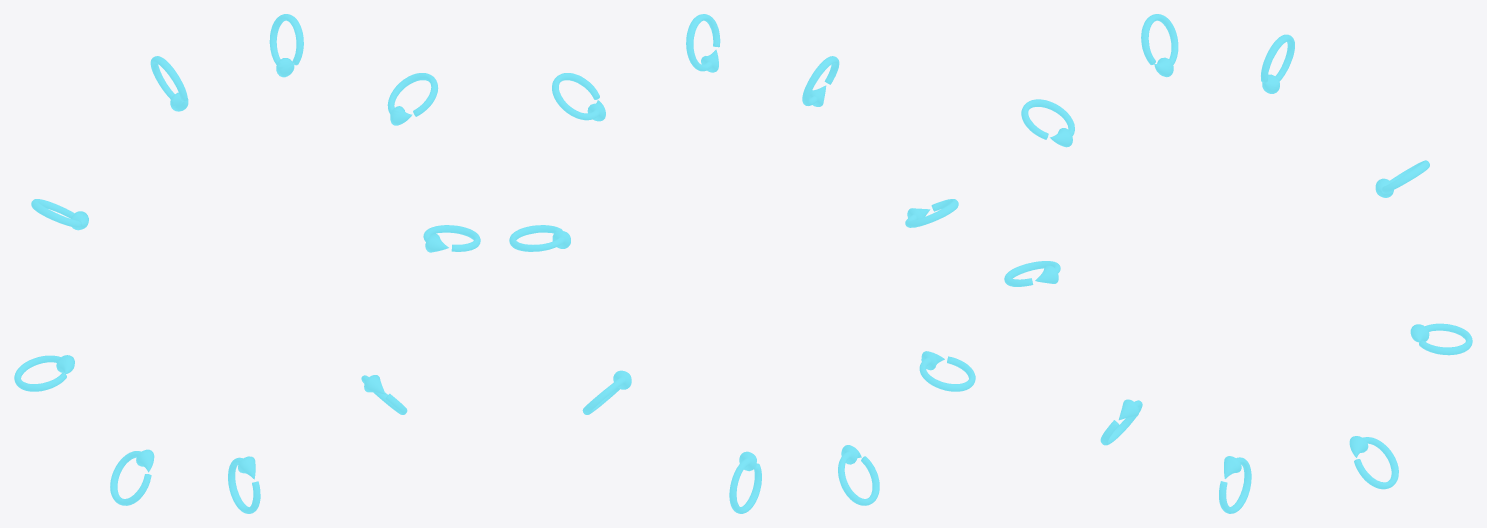
Rendered from field_aspire.glb.
3 renders of one model, left to right at view 1: azimuth 30°, elevation 25°; view 2: azimuth 150°, elevation 25°; view 3: azimuth 330°, elevation 25°, orthographic.
Parts seen in each view (by area): view 1: FIELD_ASPIRE; view 2: FIELD_ASPIRE; view 3: FIELD_ASPIRE.
Part boxes in pixels (bbox=[...]): FIELD_ASPIRE: bbox=[14, 14, 480, 513]; FIELD_ASPIRE: bbox=[509, 14, 975, 513]; FIELD_ASPIRE: bbox=[1004, 14, 1472, 513].
Size of the model in its own units: 5.86 by 5.91 by 0.635.
